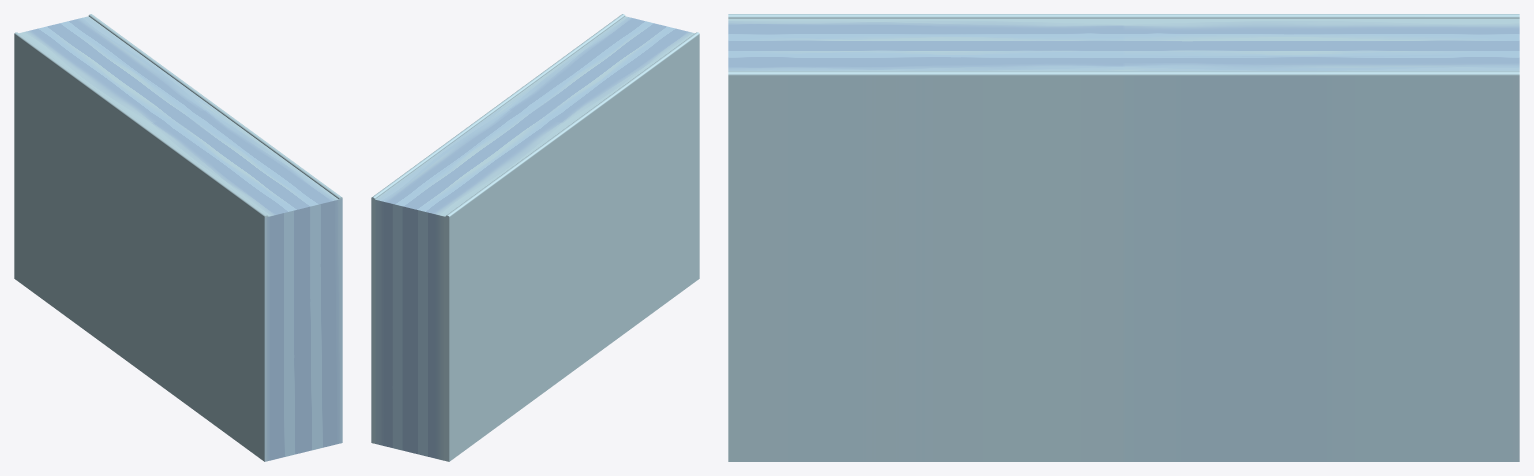
The model's file is Platform_Straight.fbx.
3 renders of one model, left to right at view 1: azimuth 30°, elevation 25°; view 2: azimuth 150°, elevation 25°; view 3: azimuth 270°, elevation 25°, orthographic. The views are drawn at different scales.
Visible parts, largest first — view 1: Platform_Straight; view 2: Platform_Straight; view 3: Platform_Straight.
Part boxes in pixels (left/top/right/bottom): Platform_Straight: left=14, top=14, right=342, bottom=461; Platform_Straight: left=371, top=14, right=699, bottom=461; Platform_Straight: left=728, top=14, right=1519, bottom=461.
Bounding box in the file's own units: 9 × 27.09 × 50.
